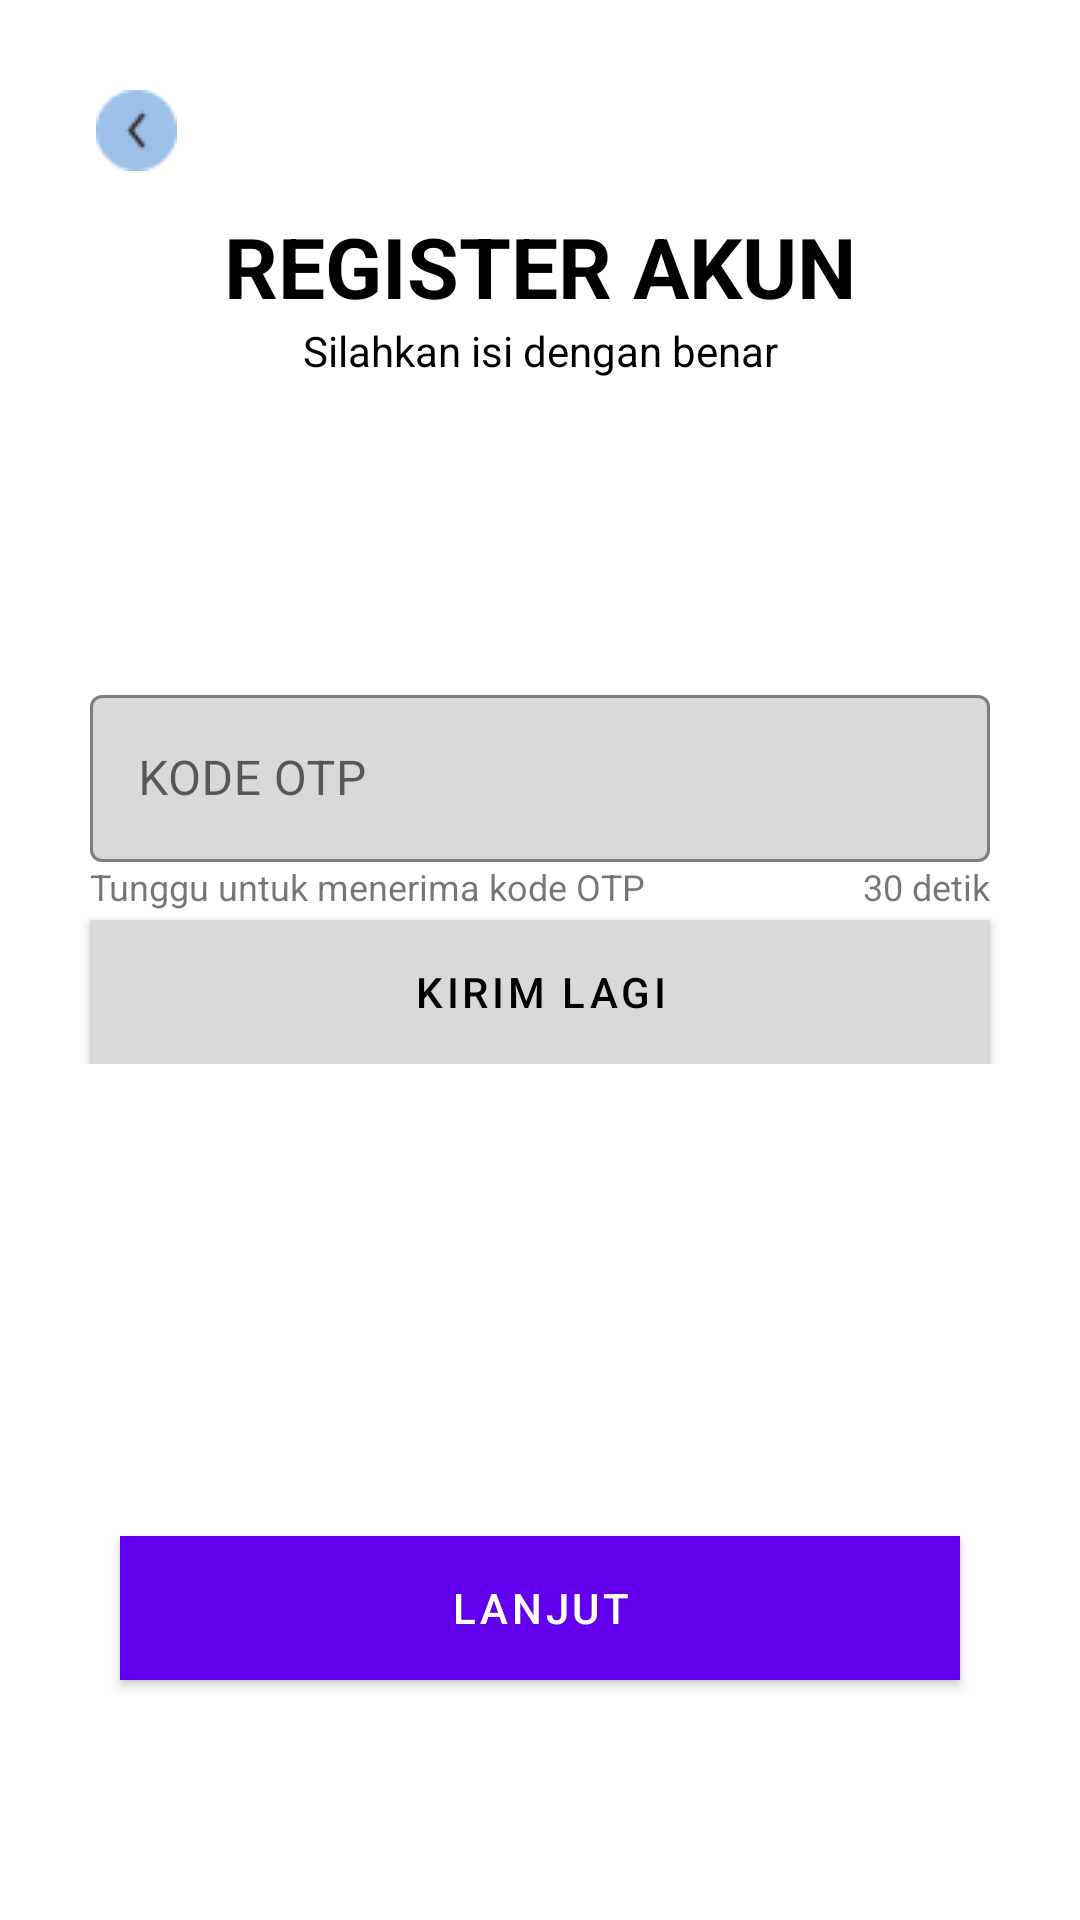

Screen size 1080w x 1920h. Icon name, then its box in pixels as (x1, y1, x2, y2):
kembali: (96, 90, 177, 171)
